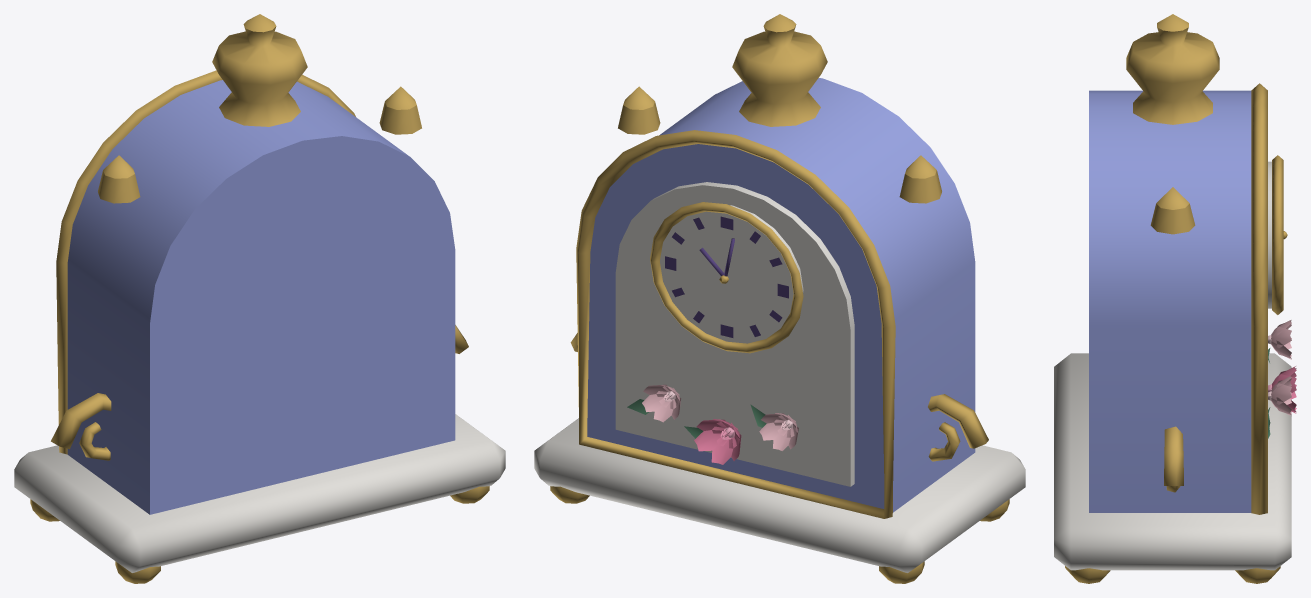
Rendered from mantel_clock_porcelain.glb.
3 renders of one model, left to right at view 1: azimuth 30°, elevation 25°; view 2: azimuth 150°, elevation 25°; view 3: azimuth 270°, elevation 25°, orthographic.
Visible parts, largest first — view 1: mantel_clock_porcelain; view 2: mantel_clock_porcelain; view 3: mantel_clock_porcelain.
Boxes of the visible parts, x1,y1,x2,y2 form: mantel_clock_porcelain: (14, 14, 505, 583); mantel_clock_porcelain: (534, 14, 1025, 583); mantel_clock_porcelain: (1054, 14, 1296, 583).
Size of what is drawn, in the model's own units: 0.35 by 0.4 by 0.18.
